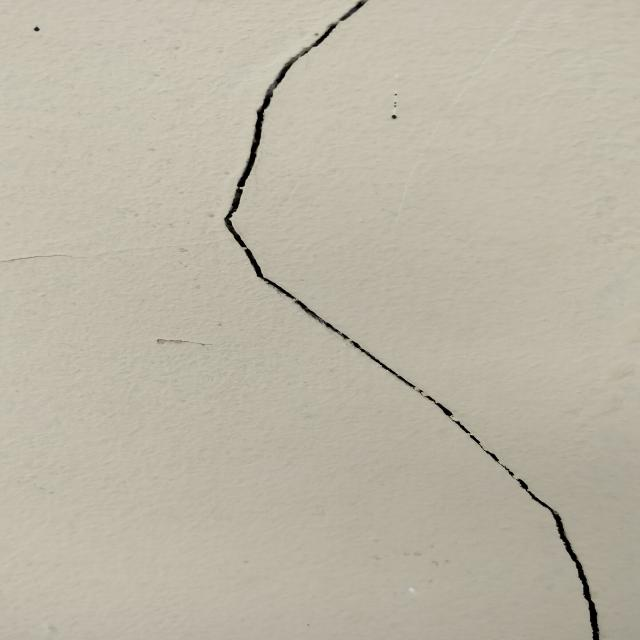Crack: (205, 1, 611, 640)
